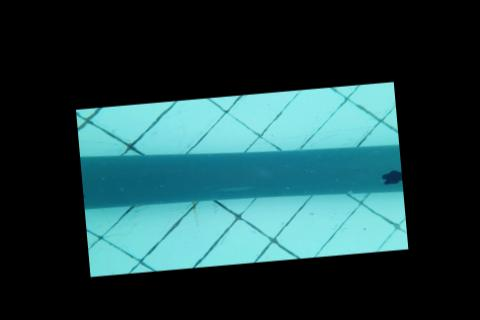kebocoran: (380, 169, 402, 186)
